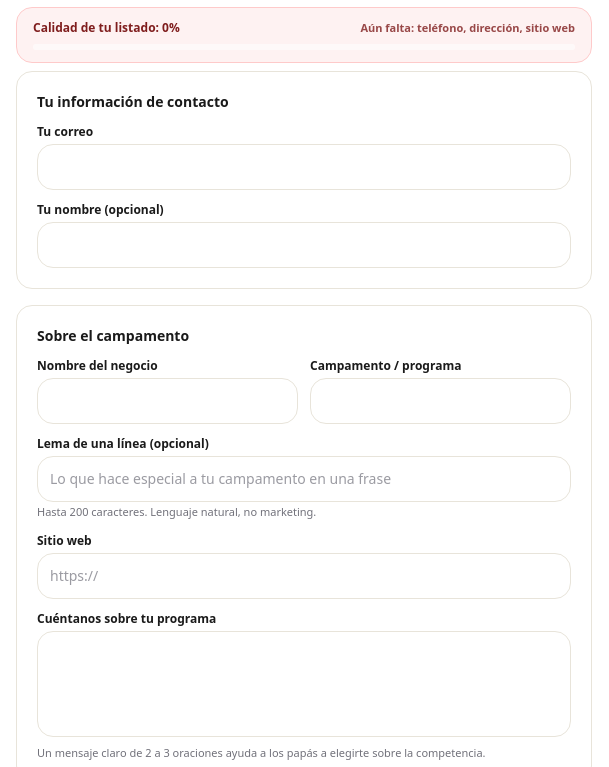
ListYourCampForm — quality accordion › ES locale › shows the Spanish success card after a 201 submission
Type "op@example.com" into the field labelled "Tu correo".
click(304, 167); type("op@example.com")  # box [37,144,571,190]
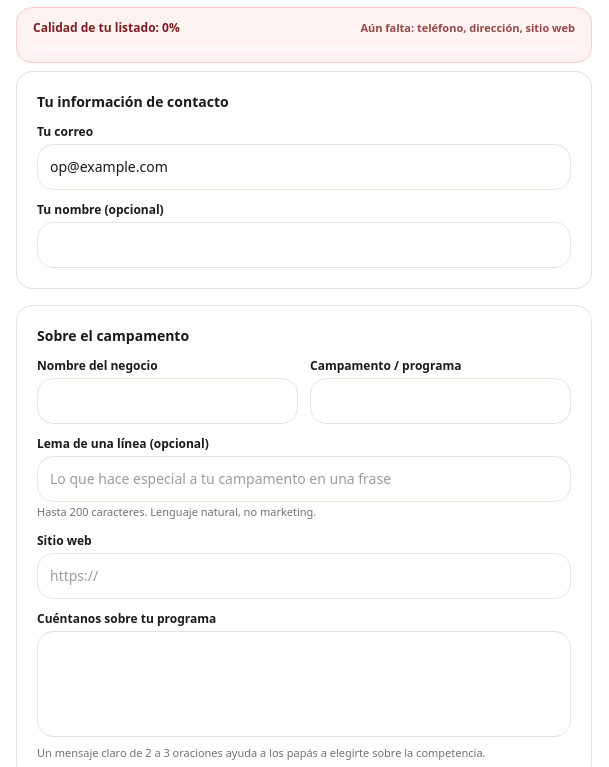
Type "Taekwondo Miami" into the field labelled "Nombre del negocio".
click(168, 401); type("Taekwondo Miami")  # box [37,378,298,424]
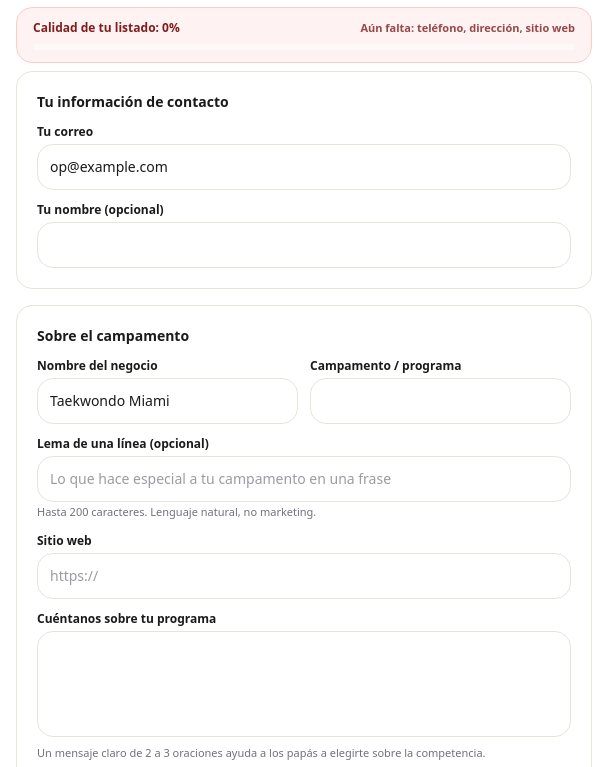
Type "Campamento de verano" into the field labelled "Campamento / programa".
click(440, 401); type("Campamento de verano")  # box [310,378,571,424]
(page scrolled)
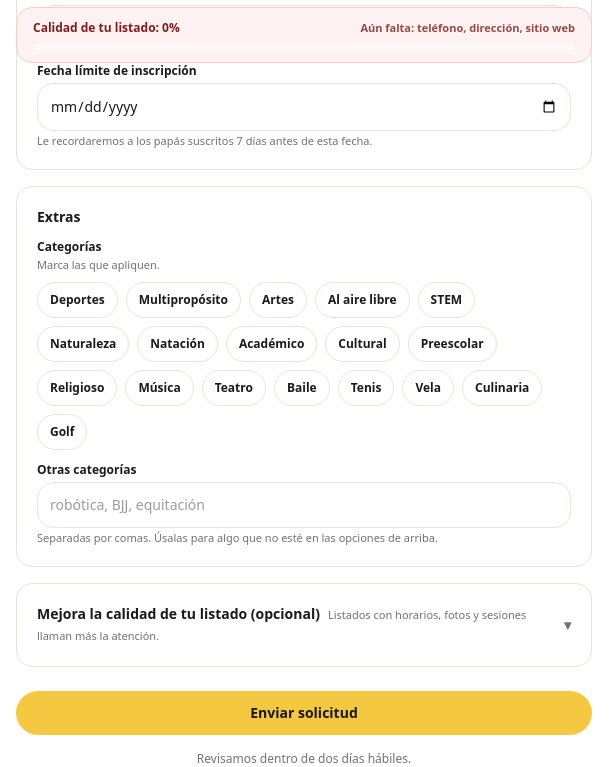
Click the button "Enviar solicitud".
click(304, 713)  # box [16,691,592,735]
(page scrolled)
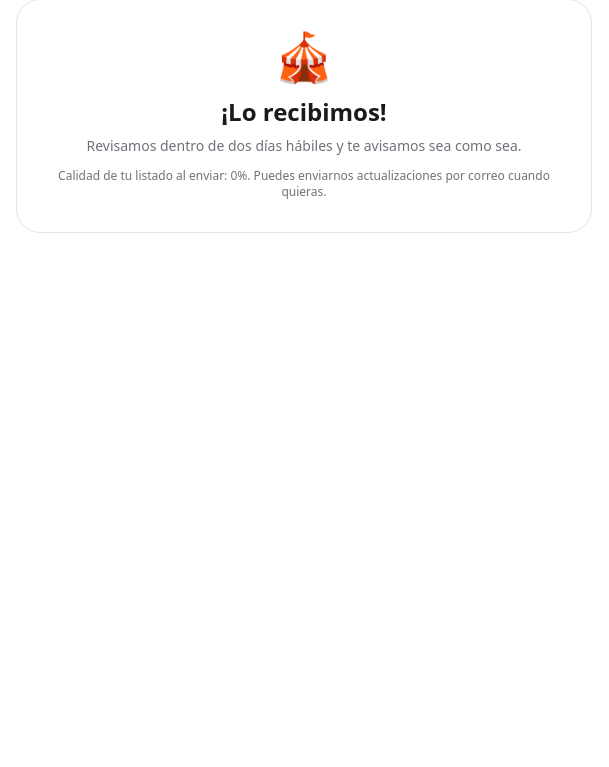
Check: the heading "¡Lo recibimos!" is shown, box [221,95,387,128]
